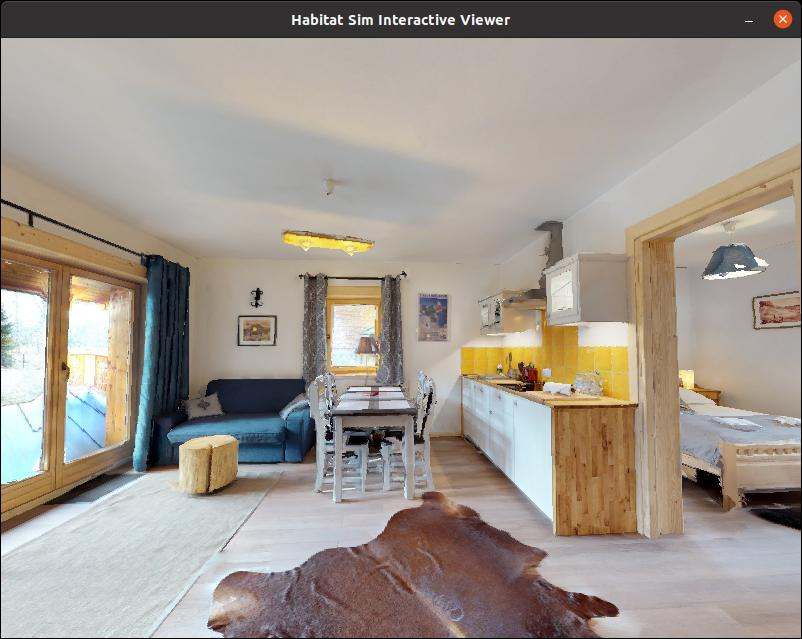bed: (669, 357, 802, 520)
door-frame: (621, 159, 802, 542)
sofa: (172, 365, 335, 476)
table: (307, 373, 441, 496)
